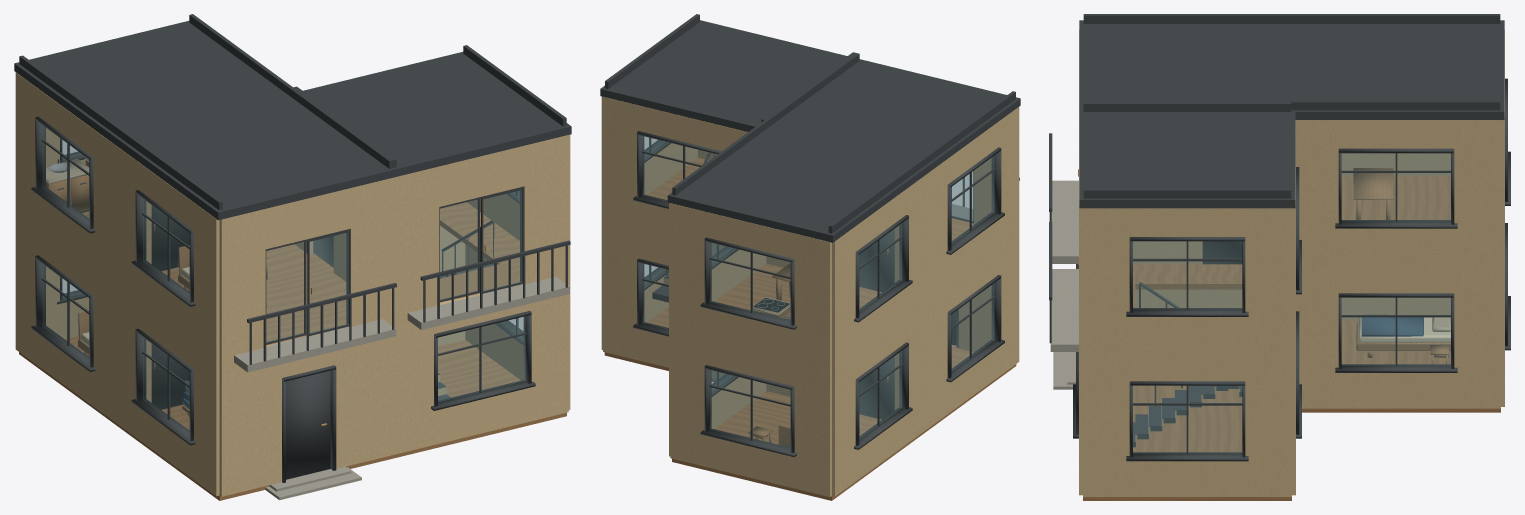
File: bld-dorm-lod-c2a04c5cec41.glb
3 views of the same model, side by side, from view 1: azimuth 30°, elevation 25°; view 2: azimuth 150°, elevation 25°; view 3: azimuth 270°, elevation 25° (orthographic). The views are drawn at different scales.
Parts seen in each view (by area): view 1: surface_plaster, surface_graphite, surface_Optical_smoke, surface_oak, surface_stone; view 2: surface_plaster, surface_graphite, surface_Optical_smoke, surface_oak; view 3: surface_plaster, surface_graphite, surface_Optical_smoke, surface_oak, surface_stone, surface_denim, surface_ivory.
Part boxes in pixels (bbox=[...]): surface_plaster: bbox=[15, 72, 570, 496]; surface_graphite: bbox=[14, 14, 571, 482]; surface_Optical_smoke: bbox=[43, 126, 525, 433]; surface_oak: bbox=[19, 157, 566, 500]; surface_stone: bbox=[234, 277, 569, 500]; surface_plaster: bbox=[601, 96, 1019, 496]; surface_graphite: bbox=[600, 14, 1020, 456]; surface_Optical_smoke: bbox=[643, 136, 994, 448]; surface_oak: bbox=[604, 157, 1016, 500]; surface_plaster: bbox=[1079, 30, 1504, 496]; surface_graphite: bbox=[1049, 14, 1510, 461]; surface_Optical_smoke: bbox=[1133, 153, 1450, 453]; surface_oak: bbox=[1083, 168, 1500, 500]; surface_stone: bbox=[1050, 180, 1078, 389]; surface_denim: bbox=[1361, 314, 1423, 336]; surface_ivory: bbox=[1358, 317, 1450, 342].
Size of the model in its own units: 8.39 by 6.56 by 8.85.
Materials: 13 (6 with a texture image).
